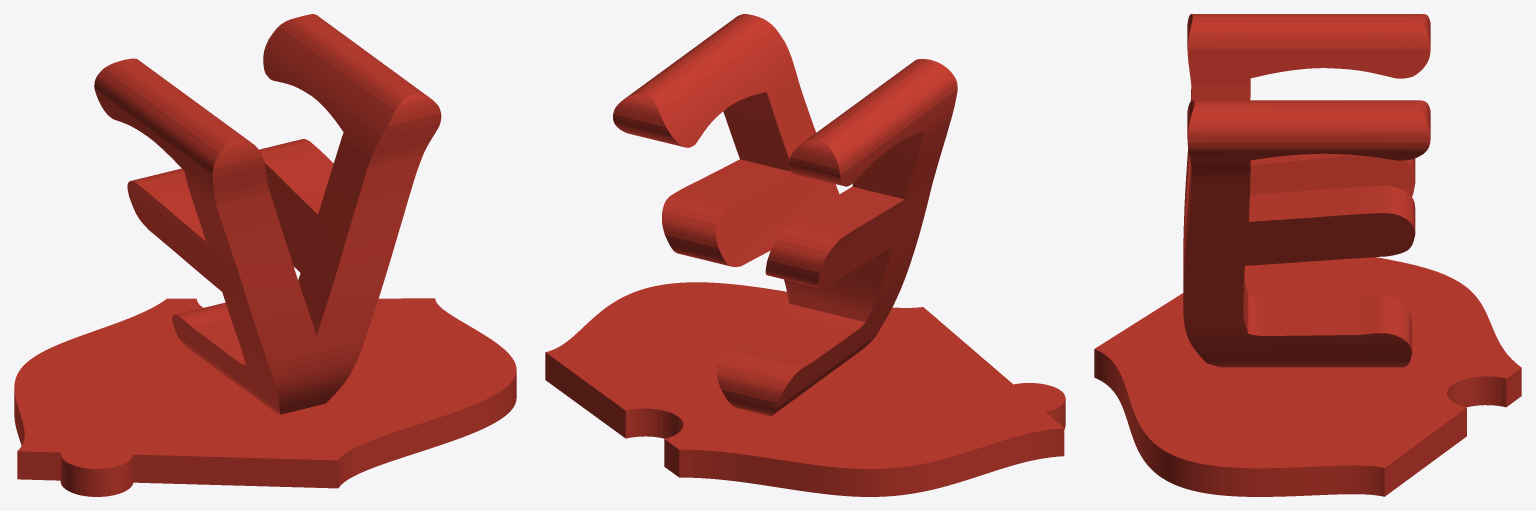
3 views of the same model, side by side, from view 1: azimuth 30°, elevation 25°; view 2: azimuth 150°, elevation 25°; view 3: azimuth 270°, elevation 25° (orthographic). The views are drawn at different scales.
Size of the model in its own units: 35.08 by 23.36 by 26.94.
